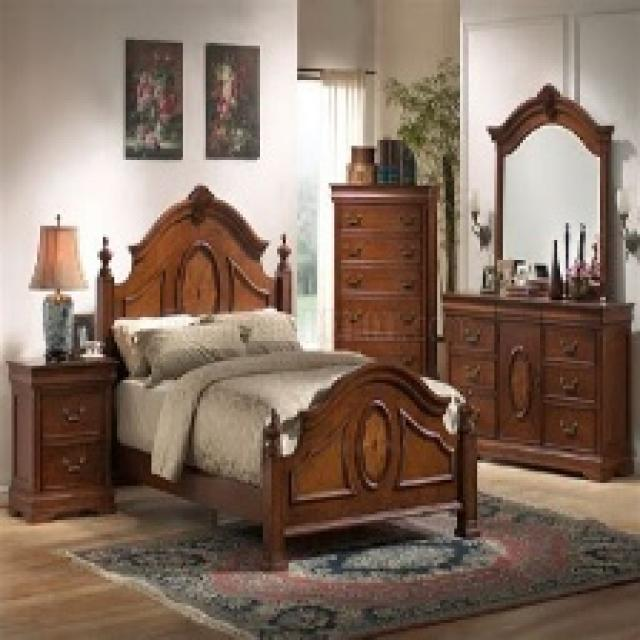Bed: (94, 183, 480, 568)
